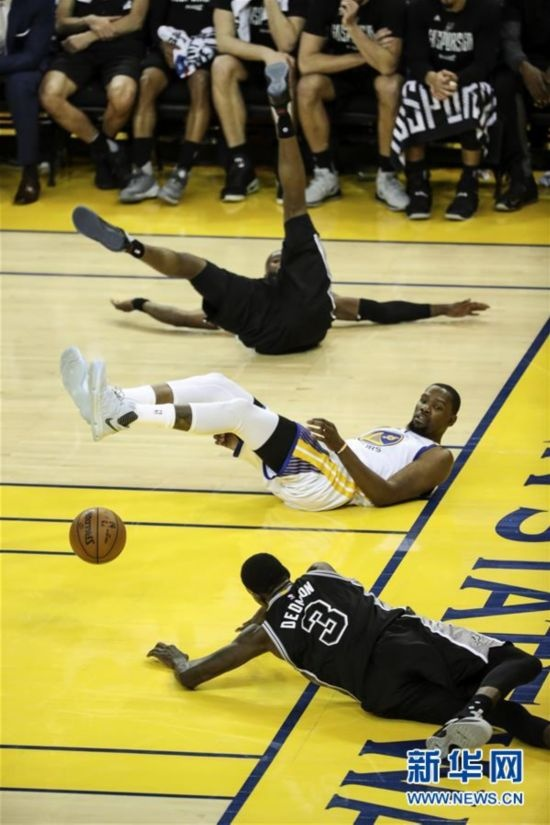falling: (88, 360, 470, 526)
